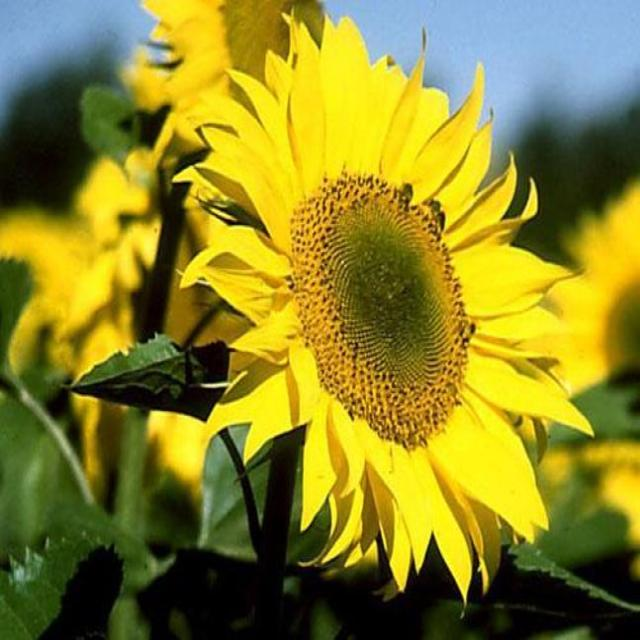sunflower: (166, 12, 598, 603), (127, 0, 352, 240), (0, 197, 167, 497), (542, 169, 640, 561), (68, 147, 165, 325)
